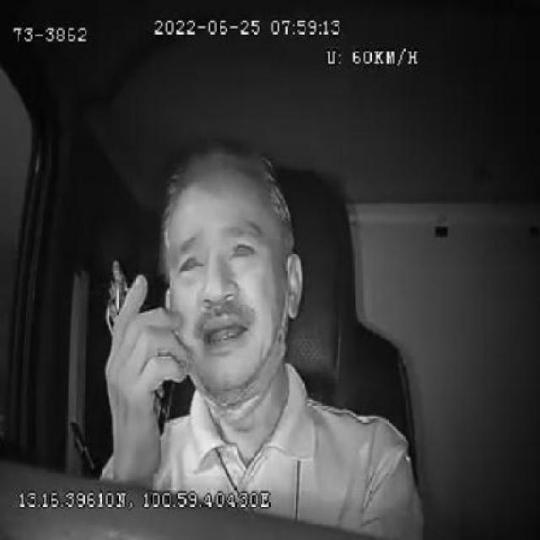phone: (103, 251, 175, 438)
